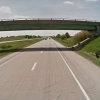Bridge: (3, 11, 100, 49)
